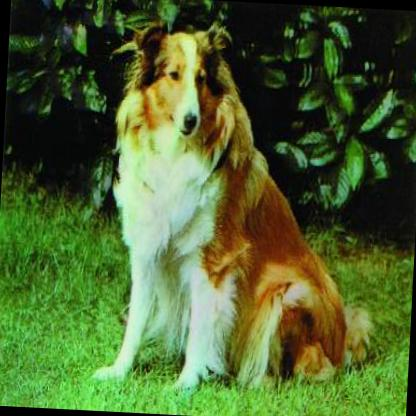Shetland_sheepdog: (83, 0, 393, 406)
